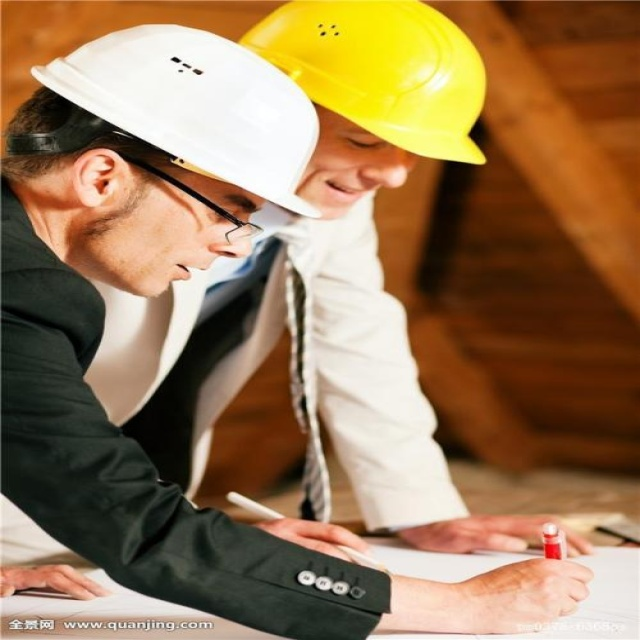Helmet: (1, 17, 329, 300), (243, 1, 504, 238)
